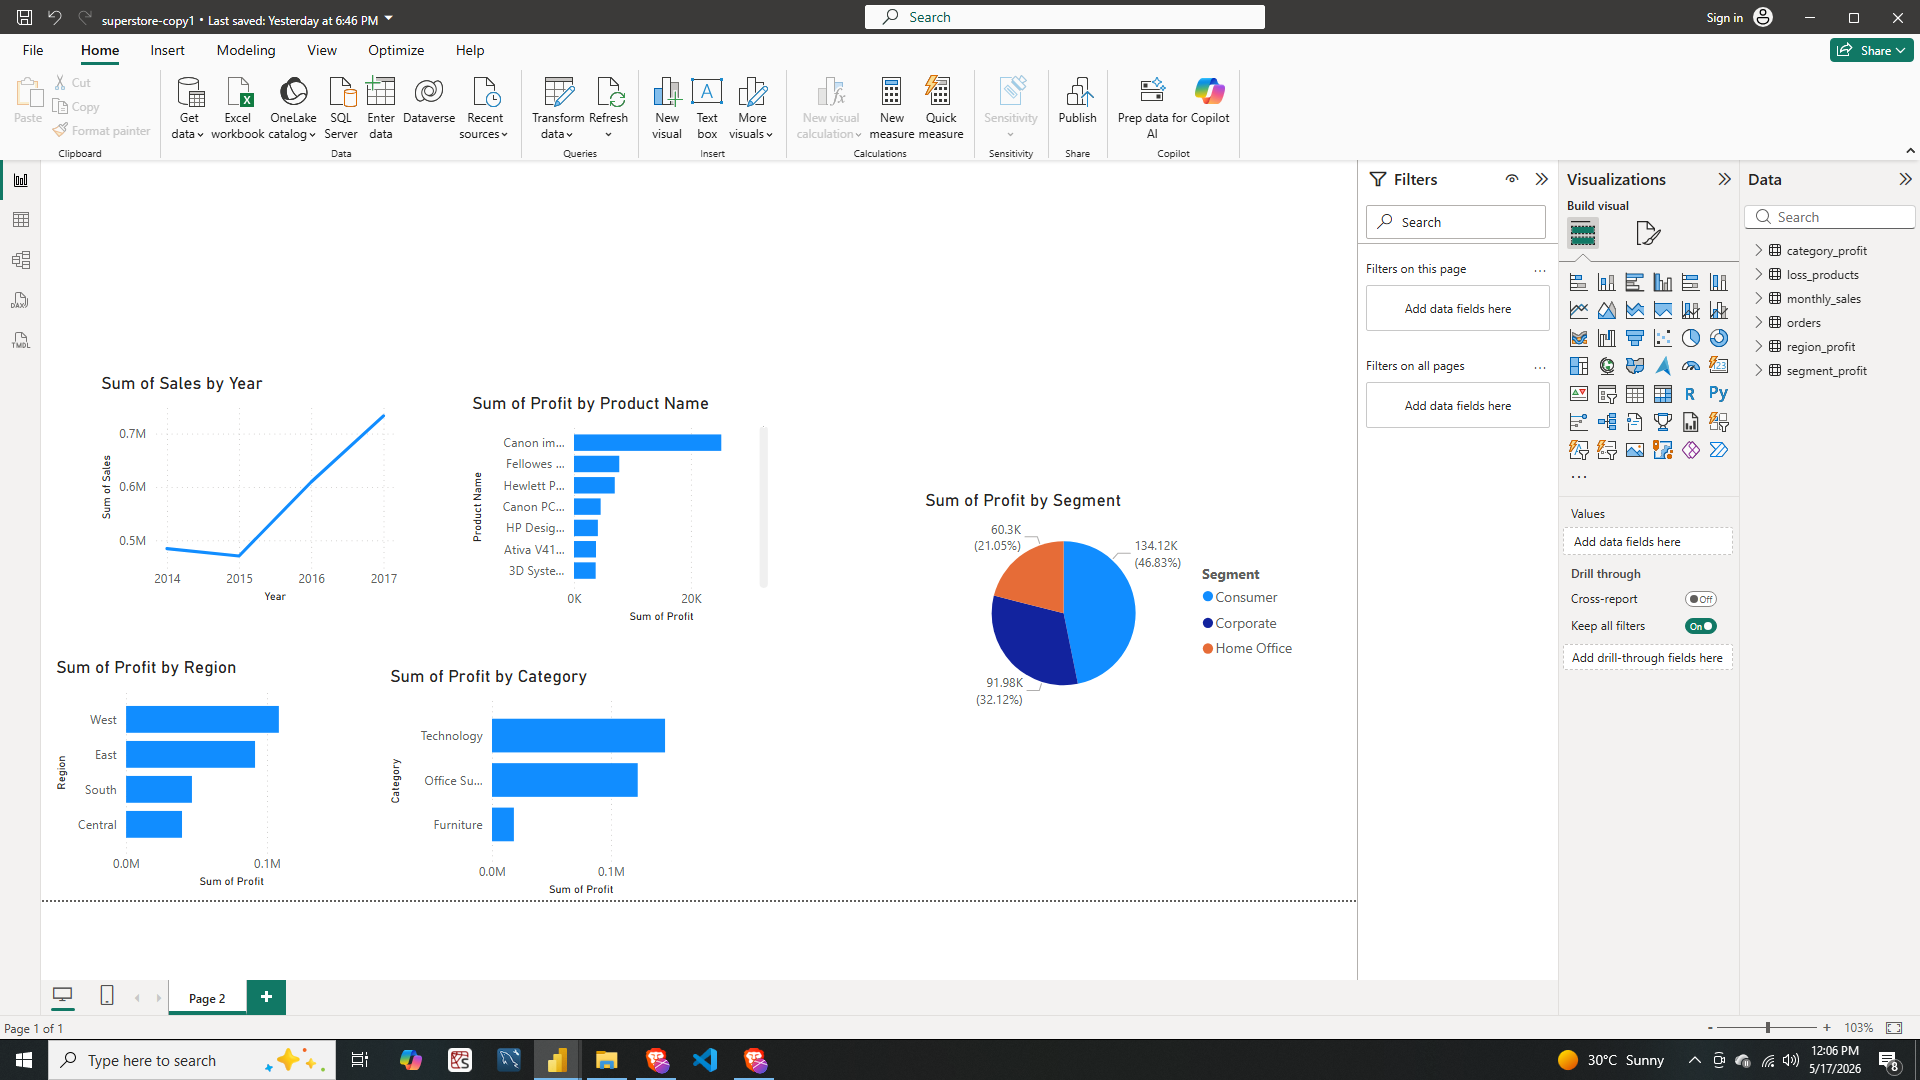

This screenshot's page, from the dashboard's own definition file:
{"tool":"powerbi","page":{"name":"Page 2","canvas":[1280,720],"ordinal":0},"visuals":[{"type":"barChart","fields":{"Category":["orders.Category"],"Y":["Sum(orders.Profit)"]},"box":[334.6,492.2,296.7,227.6],"z":0},{"type":"barChart","fields":{"Category":["orders.Region"],"Y":["Sum(orders.Profit)"]},"box":[9.7,483.4,297.6,228.6],"z":1},{"type":"lineChart","fields":{"Category":["orders.Order Date.Variation.Date Hierarchy.Year","orders.Order Date.Variation.Date Hierarchy.Quarter","orders.Order Date.Variation.Date Hierarchy.Month","orders.Order Date.Variation.Date Hierarchy.Day"],"Y":["Sum(orders.Sales)"]},"box":[53.5,207.2,297.6,227.6],"z":2},{"type":"barChart","fields":{"Category":["orders.Product Name"],"Y":["Sum(orders.Profit)"]},"box":[414.3,226.6,297.6,227.6],"z":3},{"type":"pieChart","fields":{"Category":["orders.Segment"],"Y":["Sum(orders.Profit)"]},"box":[855,434.8,376.4,220.8],"z":4}]}

Visuals, with their boxes on the page's 1280x720 design canvas (x1, y1, x2, y2). These are canvas units, not pixel positions in the 1920x1080 screenshot, which may show the page scaled, cropped or inside an application window:
barChart - orders.Category x Sum(orders.Profit): bbox=[335, 492, 631, 720]
barChart - orders.Region x Sum(orders.Profit): bbox=[10, 483, 307, 712]
lineChart - orders.Order Date.Variation.Date Hierarchy.Year x orders.Order Date.Variation.Date Hierarchy.Quarter: bbox=[54, 207, 351, 435]
barChart - orders.Product Name x Sum(orders.Profit): bbox=[414, 227, 712, 454]
pieChart - orders.Segment x Sum(orders.Profit): bbox=[855, 435, 1231, 656]
